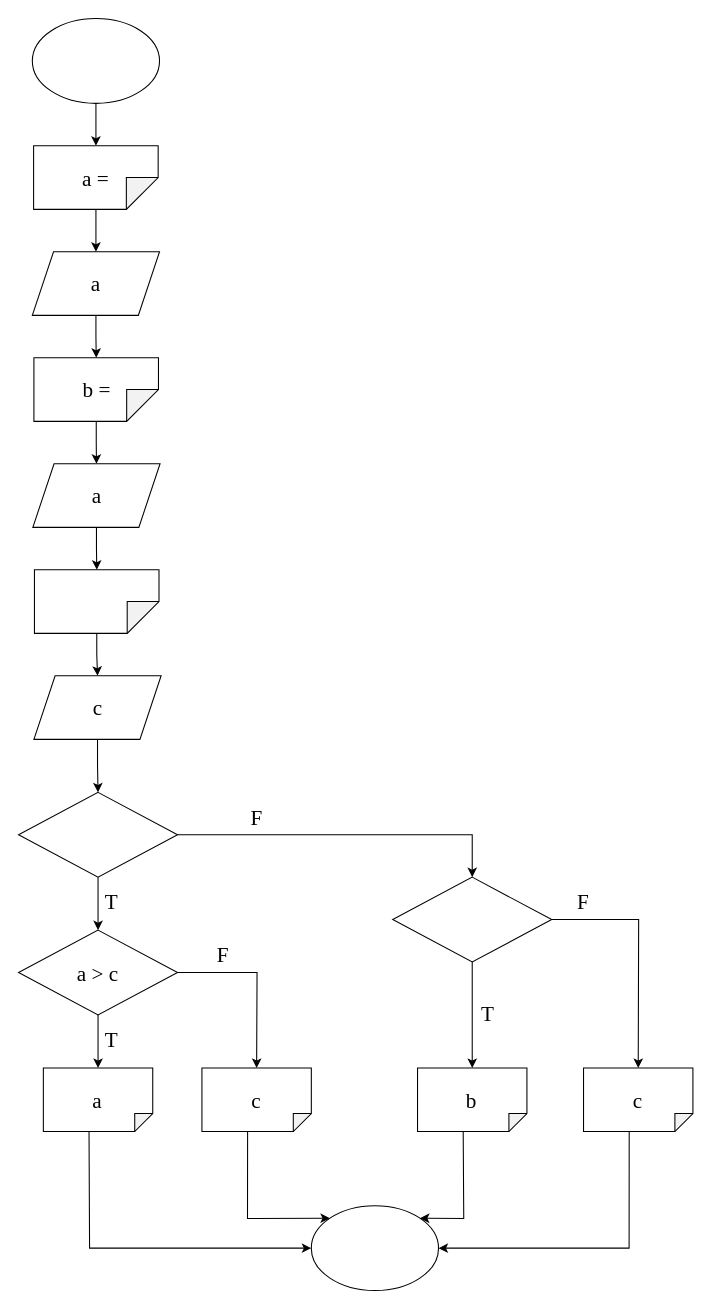
Image size: 712x1309. Some labels were removed from this diagram. Each missing label, with the box of its shape:
a > b: (17, 791, 178, 877)
b > c: (392, 876, 552, 962)
c =: (33, 569, 159, 633)
End: (310, 1205, 439, 1291)
Start: (31, 17, 160, 103)
